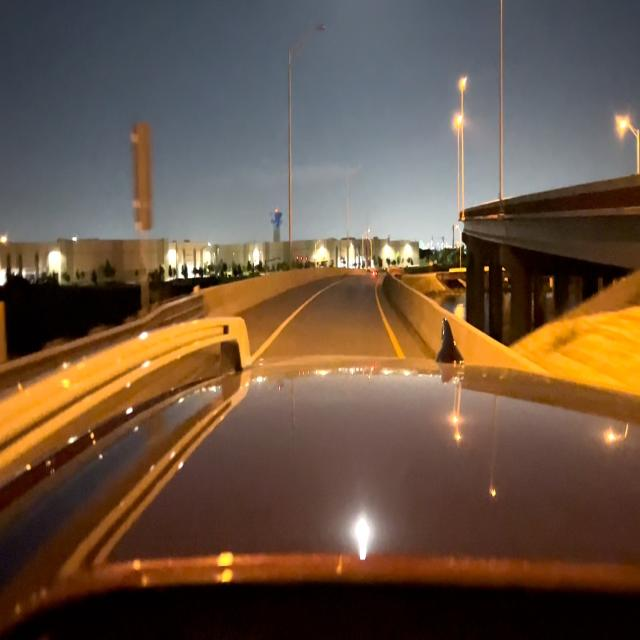back-of-sign: (134, 125, 151, 229)
